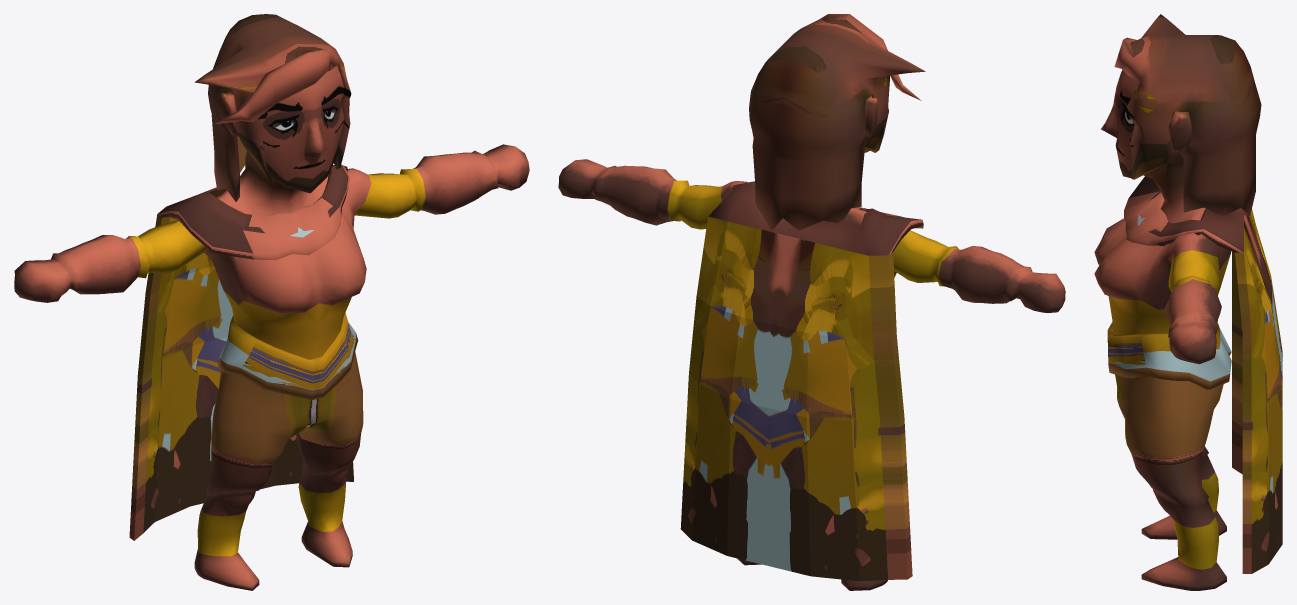
The model's file is Celtic.fbx.
3 renders of one model, left to right at view 1: azimuth 30°, elevation 25°; view 2: azimuth 150°, elevation 25°; view 3: azimuth 270°, elevation 25°, orthographic. The views are drawn at different scales.
Parts seen in each view (by area): view 1: Body_Low, Body_Low.002, Body_Low.001; view 2: Body_Low.002, Body_Low.001, Body_Low; view 3: Body_Low, Body_Low.001, Body_Low.002.
Boxes of the visible parts, bbox=[...] form: Body_Low: bbox=[14, 66, 529, 590]; Body_Low.002: bbox=[129, 164, 353, 540]; Body_Low.001: bbox=[194, 14, 351, 201]; Body_Low.002: bbox=[680, 181, 923, 581]; Body_Low.001: bbox=[749, 14, 925, 230]; Body_Low: bbox=[558, 96, 1065, 590]; Body_Low: bbox=[1094, 70, 1231, 590]; Body_Low.001: bbox=[1114, 14, 1261, 215]; Body_Low.002: bbox=[1124, 176, 1282, 573].
Size of the model in its own units: 4132 by 4123 by 1359.
